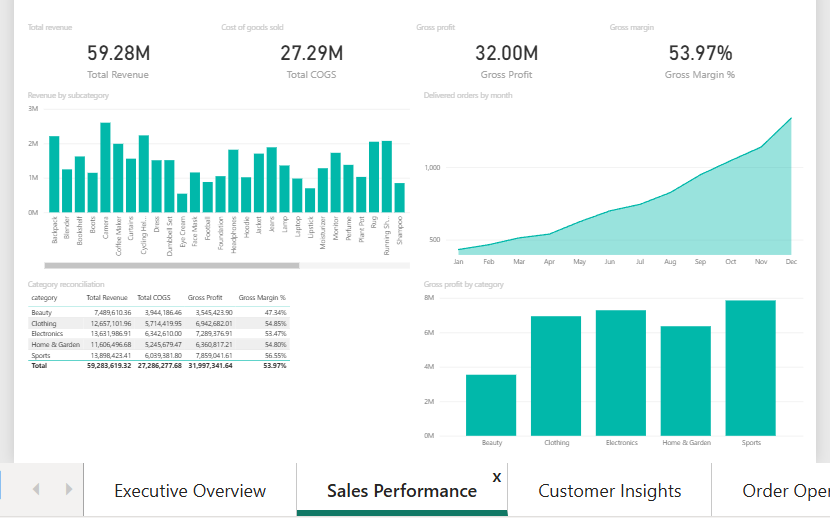

This screenshot's page, from the dashboard's own definition file:
{"tool":"powerbi","page":{"name":"Sales Performance","canvas":[1280,720],"ordinal":1},"visuals":[{"type":"card","title":"Total revenue","fields":{"Values":["Fact_Orders.Total Revenue"]},"box":[16,16,298,96],"z":0},{"type":"card","title":"Cost of goods sold","fields":{"Values":["Fact_Orders.Total COGS"]},"box":[326,16,298,96],"z":0},{"type":"card","title":"Gross profit","fields":{"Values":["Fact_Orders.Gross Profit"]},"box":[636,16,298,96],"z":0},{"type":"card","title":"Gross margin","fields":{"Values":["Fact_Orders.Gross Margin %"]},"box":[946,16,298,96],"z":0},{"type":"clusteredColumnChart","title":"Revenue by subcategory","fields":{"Category":["Dim_Products.subcategory"],"Y":["Fact_Orders.Total Revenue"]},"box":[16,124,620,290],"z":0},{"type":"areaChart","title":"Delivered orders by month","fields":{"Category":["Dim_Calendar.MonthName"],"Y":["Fact_Orders.Delivered Orders"]},"box":[648,124,616,290],"z":0},{"type":"tableEx","title":"Category reconciliation","fields":{"Values":["Dim_Products.category","Fact_Orders.Total Revenue","Fact_Orders.Total COGS","Fact_Orders.Gross Profit","Fact_Orders.Gross Margin %"]},"box":[16,426,620,278],"z":0},{"type":"clusteredColumnChart","title":"Gross profit by category","fields":{"Category":["Dim_Products.category"],"Y":["Fact_Orders.Gross Profit"]},"box":[648,426,616,278],"z":0}]}

Visuals, with their boxes on the page's 1280x720 design canvas (x1, y1, x2, y2). These are canvas units, not pixel positions in the 830x518 screenshot, which may show the page scaled, cropped or inside an application window:
"Total revenue" card: select_region(16, 16, 314, 112)
"Cost of goods sold" card: select_region(326, 16, 624, 112)
"Gross profit" card: select_region(636, 16, 934, 112)
"Gross margin" card: select_region(946, 16, 1244, 112)
"Revenue by subcategory" clusteredColumnChart: select_region(16, 124, 636, 414)
"Delivered orders by month" areaChart: select_region(648, 124, 1264, 414)
"Category reconciliation" tableEx: select_region(16, 426, 636, 704)
"Gross profit by category" clusteredColumnChart: select_region(648, 426, 1264, 704)
